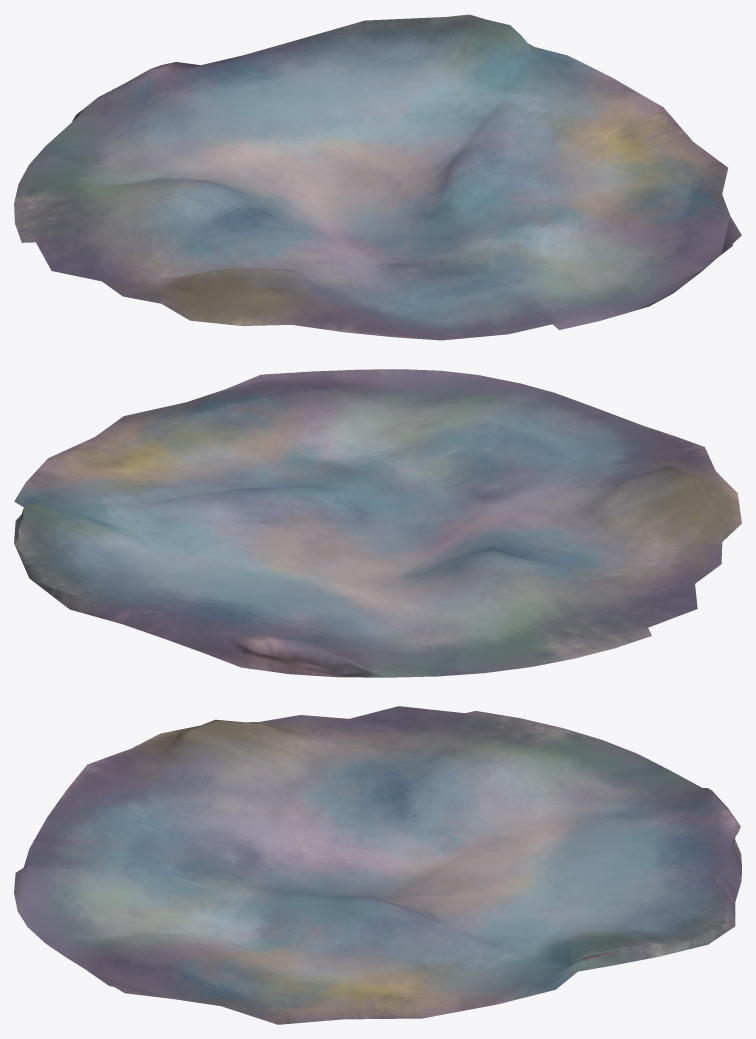
The model's file is MiscMixtureMesh.fbx.
The picture shows the model from 3 angles, top to bottom: view 1: azimuth 30°, elevation 25°; view 2: azimuth 150°, elevation 25°; view 3: azimuth 270°, elevation 25°; orthographic projection. The views are drawn at different scales.
Visible parts, largest first — view 1: pDisc2; view 2: pDisc2; view 3: pDisc2.
Part boxes in pixels (bbox=[...]): pDisc2: bbox=[14, 14, 741, 340]; pDisc2: bbox=[14, 369, 741, 677]; pDisc2: bbox=[14, 706, 741, 1024].
Size of the model in its own units: 13.44 by 1.24 by 13.1.
Materials: 1 (1 with a texture image).
